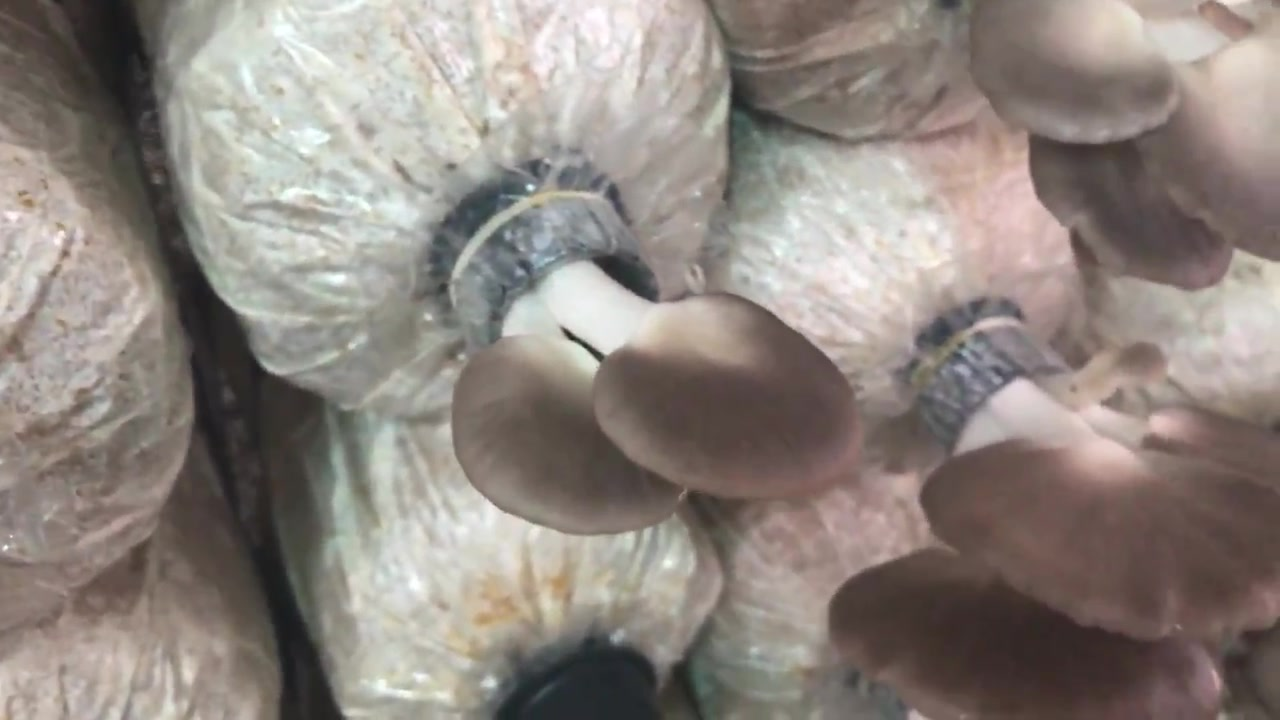nam: (831, 321, 1278, 720), (450, 192, 859, 535), (961, 2, 1280, 295)
